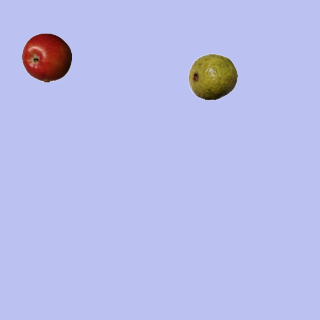Apple Braeburn: (21, 32, 71, 82)
Guava: (187, 51, 237, 101)
